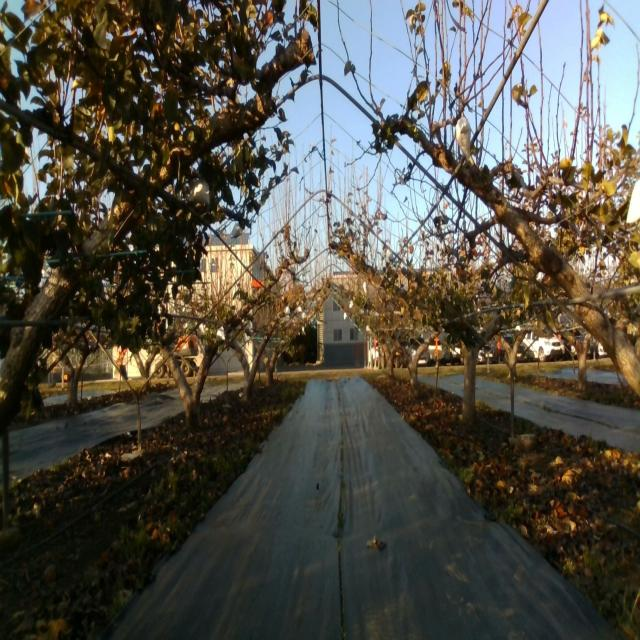pearbags: (186, 172, 210, 207), (455, 117, 471, 161)
